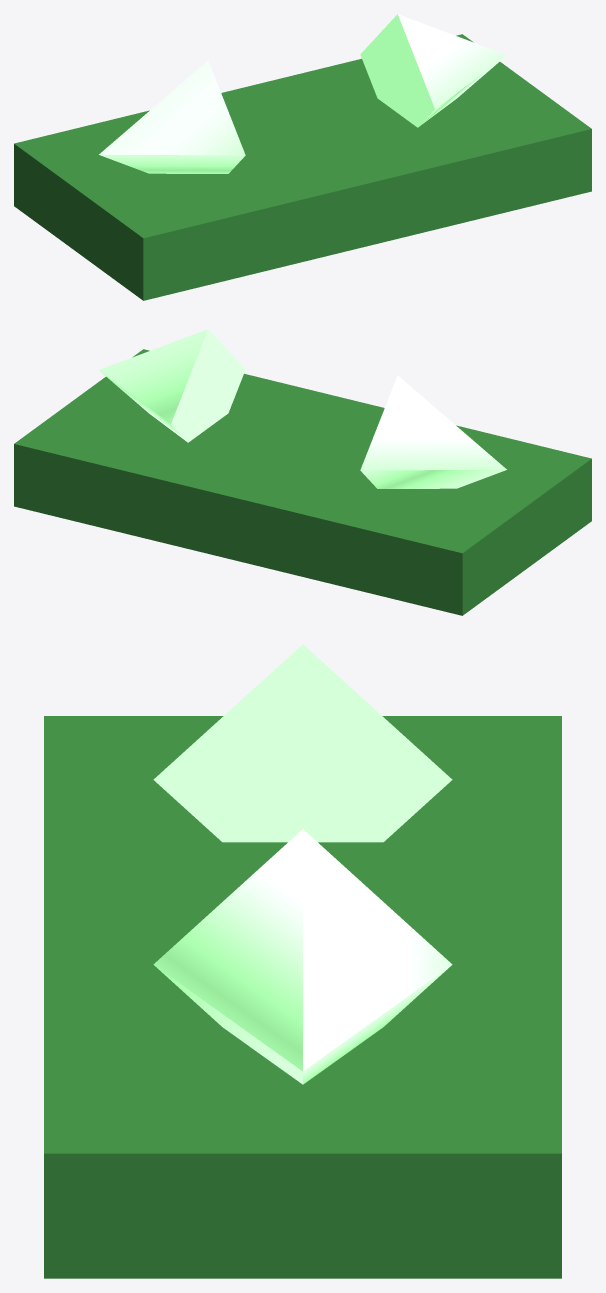
Rendered from powerup_wide.glb.
The picture shows the model from 3 angles, top to bottom: view 1: azimuth 30°, elevation 25°; view 2: azimuth 150°, elevation 25°; view 3: azimuth 270°, elevation 25°; orthographic projection. The views are drawn at different scales.
Parts seen in each view (by area): view 1: powerup_wide; view 2: powerup_wide; view 3: powerup_wide.
Boxes of the visible parts, <box> form: powerup_wide: <box>14,14,591,300</box>; powerup_wide: <box>14,329,591,615</box>; powerup_wide: <box>44,644,561,1278</box>.
Size of the model in its own units: 0.9 by 0.31 by 0.45.
